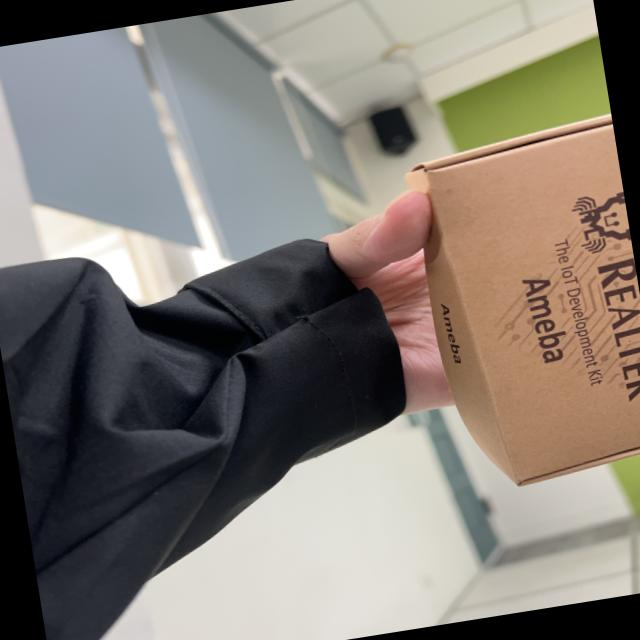box: (399, 109, 640, 511)
